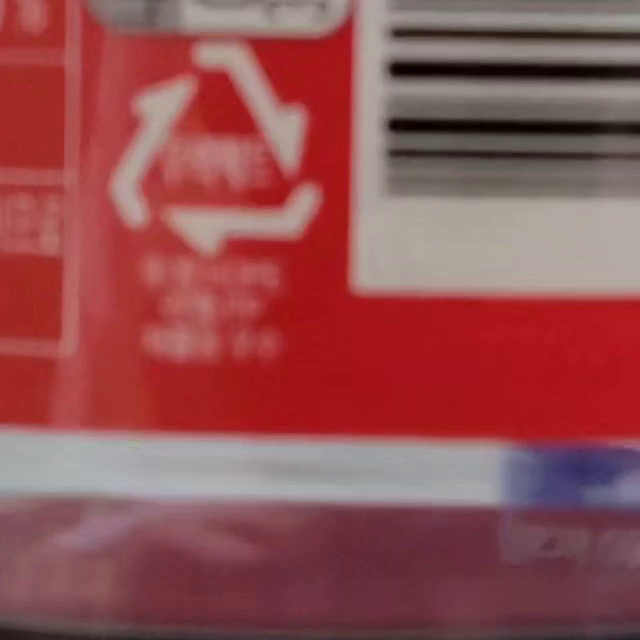ColorlessPet: (111, 50, 327, 258)
